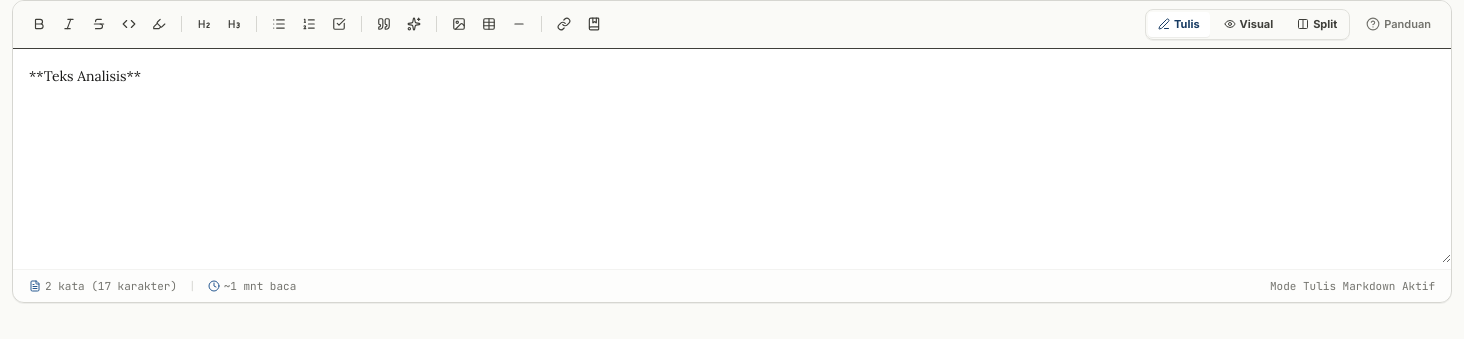
Test: RichTextEditor In-Situ View Modes › switches to split view mode showing both textarea and live rendered pane
The width and height of the screenshot is (1464, 339).
Step 1. Click the button "Split" → (1317, 24), box [1287, 12, 1347, 36]
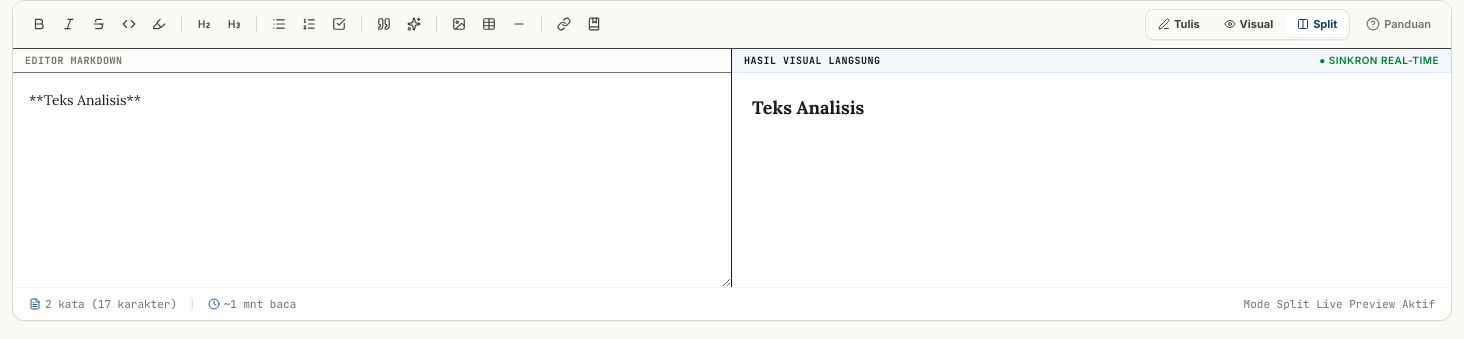
Expected: the text box showing "**Teks Analisis**" is shown, [13, 72, 731, 286]
Now the text "Teks Analisis" is shown, box [752, 96, 864, 118]
